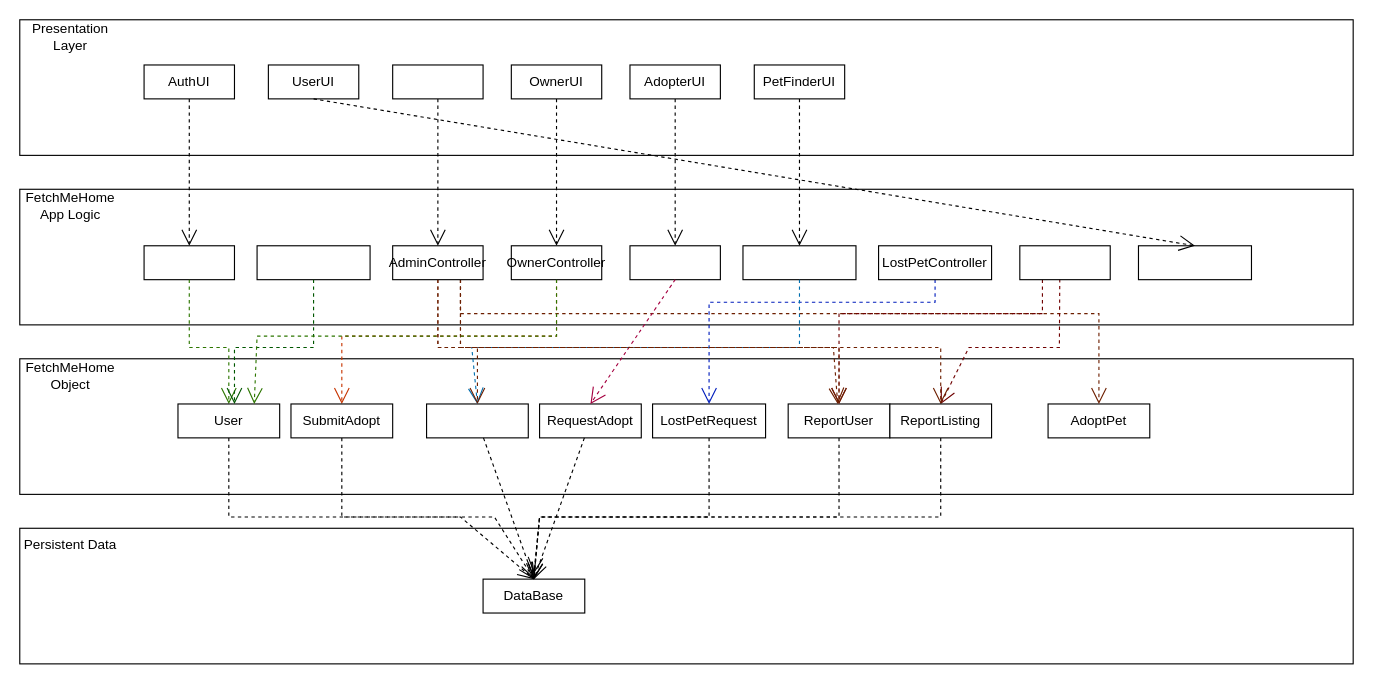
The diagram is 1373 pixels wide and 684 high, and some of its shapes have lost their labels. The box of each missing label's shape, as (x1, y1, x2, y2) in pixels:
AdminUI: (392, 64, 483, 99)
AdopterController: (629, 245, 720, 280)
AuthController: (143, 245, 234, 280)
FinderController: (742, 245, 856, 280)
FlagController: (1019, 245, 1110, 280)
LostPet: (425, 403, 528, 438)
PersonalityController: (1137, 245, 1251, 280)
UserController: (256, 245, 370, 280)
